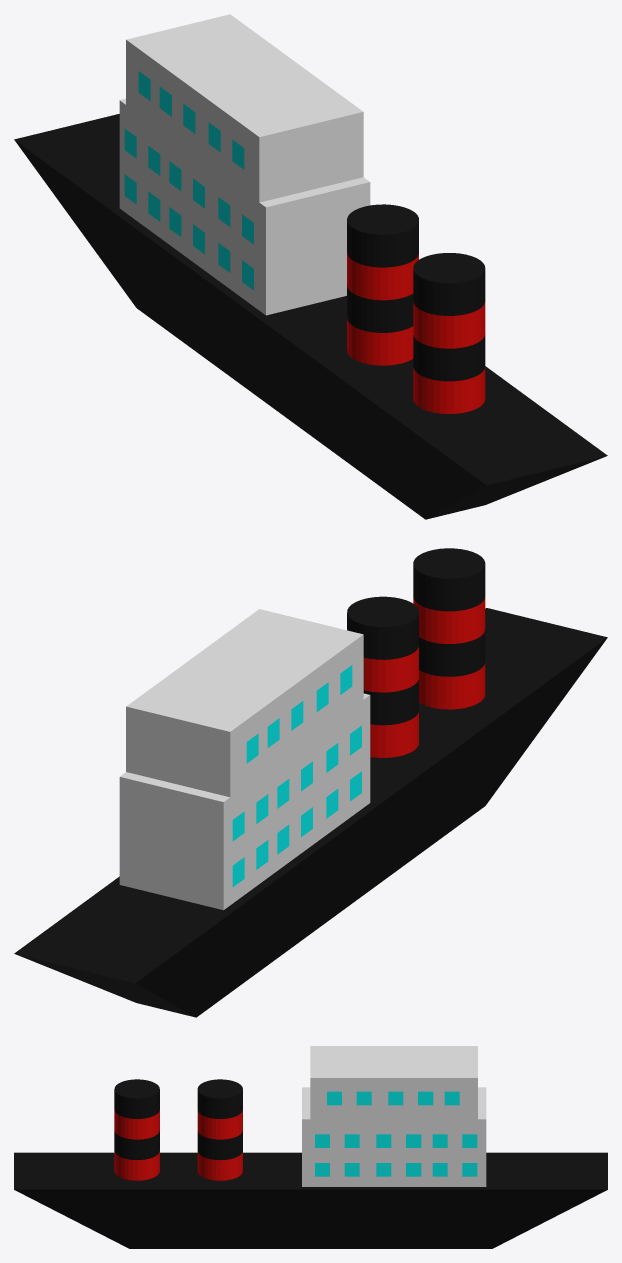
The model's file is ship 1.fbx.
The picture shows the model from 3 angles, top to bottom: view 1: azimuth 30°, elevation 25°; view 2: azimuth 150°, elevation 25°; view 3: azimuth 270°, elevation 25°; orthographic projection. The views are drawn at different scales.
Parts seen in each view (by area): view 1: Cube.049, Cube.051, Cube.050, Cylinder.080, Cylinder.084, Cylinder.078, Cylinder.079, Cylinder.077, Cylinder.083, Cylinder.081, Cylinder.082; view 2: Cube.049, Cube.051, Cube.050, Cylinder.080, Cylinder.084, Cylinder.079, Cylinder.077, Cylinder.078, Cylinder.083, Cylinder.082, Cylinder.081; view 3: Cube.049, Cube.051, Cube.050, Cylinder.080, Cylinder.084, Cylinder.081, Cylinder.078, Cylinder.079, Cylinder.077, Cylinder.083, Cylinder.082.
Boxes of the visible parts, <box> form: Cube.049: <box>14,114,607,519</box>; Cube.051: <box>126,14,363,202</box>; Cube.050: <box>119,98,370,315</box>; Cylinder.080: <box>413,253,485,315</box>; Cylinder.084: <box>347,204,418,267</box>; Cylinder.078: <box>413,335,485,381</box>; Cylinder.079: <box>413,302,485,348</box>; Cylinder.077: <box>413,367,485,413</box>; Cylinder.083: <box>347,252,418,300</box>; Cylinder.081: <box>347,317,413,365</box>; Cylinder.082: <box>347,284,413,332</box>; Cube.049: <box>14,608,607,1017</box>; Cube.051: <box>126,609,363,797</box>; Cube.050: <box>119,693,370,910</box>; Cylinder.080: <box>413,548,485,611</box>; Cylinder.084: <box>347,596,418,659</box>; Cylinder.079: <box>413,597,485,643</box>; Cylinder.077: <box>419,662,485,709</box>; Cylinder.078: <box>419,630,485,676</box>; Cylinder.083: <box>363,647,418,692</box>; Cylinder.082: <box>363,679,418,725</box>; Cylinder.081: <box>370,712,418,757</box>; Cube.049: <box>14,1152,607,1248</box>; Cube.051: <box>310,1046,477,1119</box>; Cube.050: <box>302,1087,486,1186</box>; Cylinder.080: <box>114,1079,159,1118</box>; Cylinder.084: <box>197,1079,242,1118</box>; Cylinder.081: <box>197,1151,242,1180</box>; Cylinder.078: <box>114,1130,159,1160</box>; Cylinder.079: <box>114,1110,159,1139</box>; Cylinder.077: <box>114,1151,159,1180</box>; Cylinder.083: <box>197,1110,242,1139</box>; Cylinder.082: <box>197,1131,242,1160</box>.
Bounding box in the file's own units: 1166 × 2592 × 7859.
